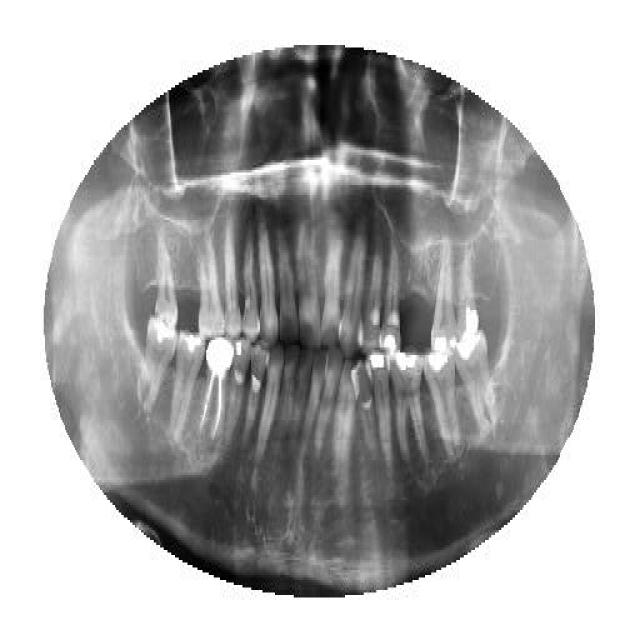Fillings: (422, 350, 462, 455), (135, 315, 179, 410), (394, 347, 428, 465), (459, 330, 496, 432), (368, 350, 392, 470), (431, 232, 455, 350), (379, 238, 400, 352), (454, 248, 478, 338)
Implant: (198, 338, 234, 440)
